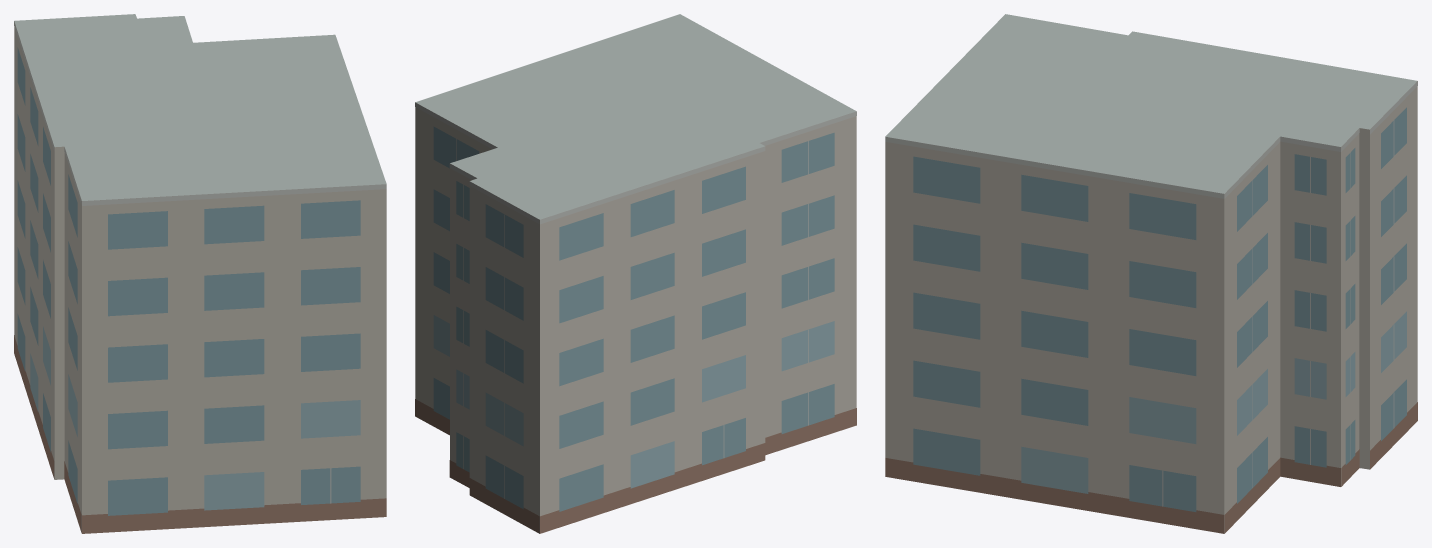
The model's file is survey-upis-32917466.glb.
The picture shows the model from 3 angles, left to right: view 1: azimuth 30°, elevation 25°; view 2: azimuth 150°, elevation 25°; view 3: azimuth 270°, elevation 25°; orthographic projection. The views are drawn at different scales.
Parts seen in each view (by area): view 1: survey-upis-32917466.tmp; view 2: survey-upis-32917466.tmp; view 3: survey-upis-32917466.tmp.
Boxes of the visible parts, box(x1,y1,x2,y2) form: survey-upis-32917466.tmp: box(14, 14, 386, 533); survey-upis-32917466.tmp: box(415, 14, 856, 533); survey-upis-32917466.tmp: box(885, 14, 1417, 533).
Size of the model in its own units: 18.61 by 16.4 by 23.29.
